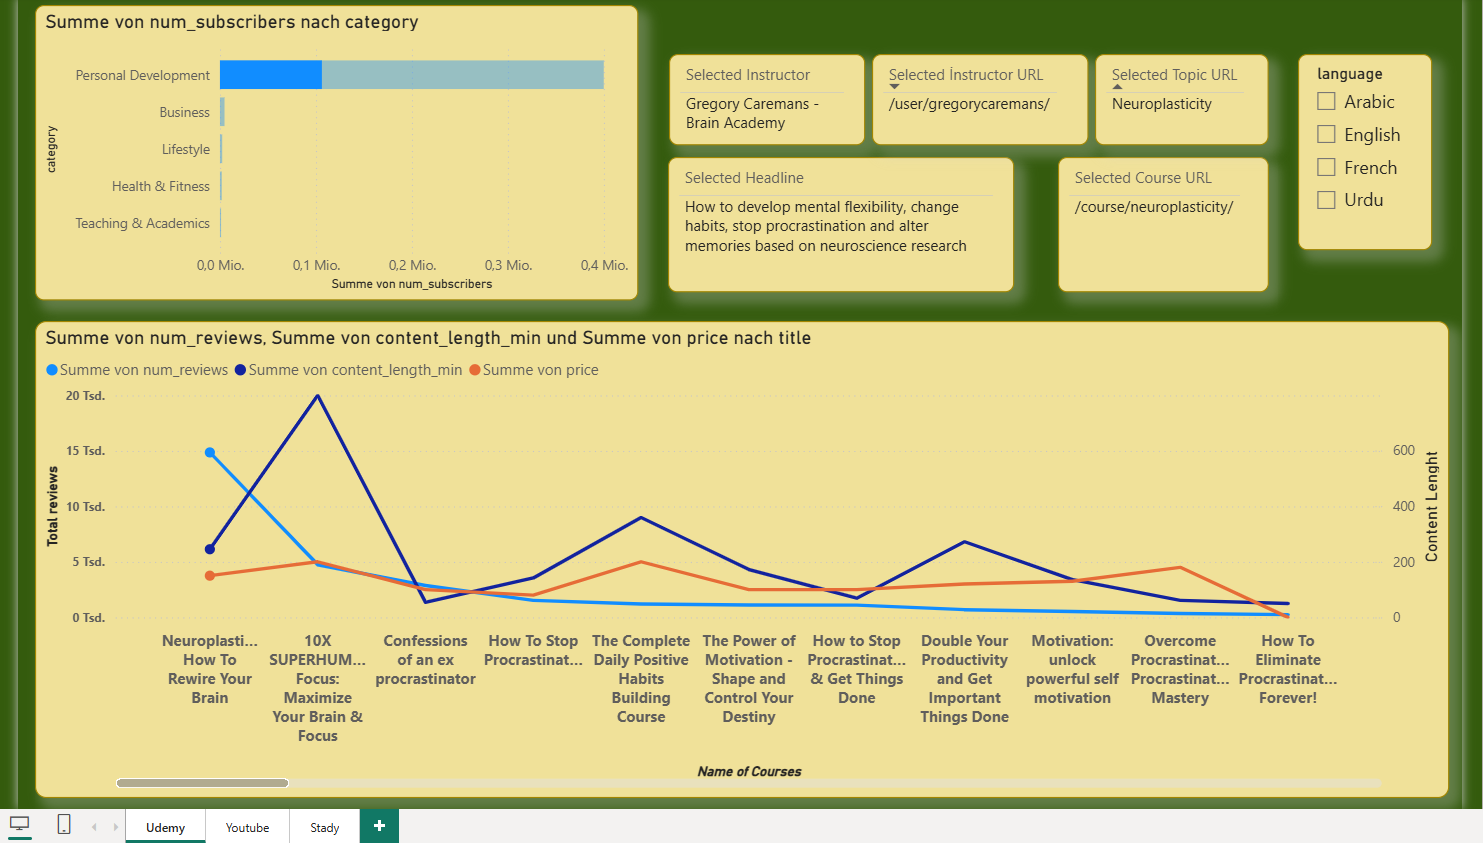

Layout of this report page (visuals, bound fields, positions):
{"tool":"powerbi","page":{"name":"Udemy","canvas":[1280,720],"ordinal":0},"visuals":[{"type":"barChart","fields":{"Y":["Sum(udemy_filtered_1.num_subscribers)"],"Category":["udemy_filtered_1.category"]},"box":[15.4,6.7,535.4,261.9],"z":0},{"type":"slicer","fields":{"Values":["udemy_filtered_1.language"]},"box":[1135.1,50.9,119,173.7],"z":1000},{"type":"lineChart","fields":{"Category":["udemy_filtered_1.title"],"Y":["Sum(udemy_filtered_1.num_reviews)"],"Y2":["Sum(udemy_filtered_1.content_length_min)","Sum(udemy_filtered_1.price)"]},"box":[15.4,286.9,1254.1,423.1],"z":2000},{"type":"tableEx","fields":{"Values":["Measure.Selected Instructor"]},"box":[577.1,50.6,173.6,80.9],"z":3000},{"type":"tableEx","fields":{"Values":["Maesuers.Selected Headline"]},"box":[576.7,142,307,119.9],"z":4000},{"type":"tableEx","fields":{"Values":["Measure.Selected İnc URL"]},"box":[757.1,50.6,191.8,80.9],"z":5000},{"type":"tableEx","fields":{"Values":["Measure.Selected Course URL"]},"box":[922.1,142,187.1,119.9],"z":6000},{"type":"tableEx","fields":{"Values":["Measure.Selected Topic URL"]},"box":[955.3,50.6,153.6,80.9],"z":7000}]}

Visuals, with their boxes on the page's 1280x720 design canvas (x1, y1, x2, y2). These are canvas units, not pixel positions in the 1483x843 screenshot, which may show the page scaled, cropped or inside an application window:
barChart - Sum(udemy_filtered_1.num_subscribers) x udemy_filtered_1.category: locate(15, 7, 551, 269)
slicer - udemy_filtered_1.language: locate(1135, 51, 1254, 225)
lineChart - udemy_filtered_1.title x Sum(udemy_filtered_1.num_reviews): locate(15, 287, 1270, 710)
tableEx - Measure.Selected Instructor: locate(577, 51, 751, 132)
tableEx - Maesuers.Selected Headline: locate(577, 142, 884, 262)
tableEx - Measure.Selected İnc URL: locate(757, 51, 949, 132)
tableEx - Measure.Selected Course URL: locate(922, 142, 1109, 262)
tableEx - Measure.Selected Topic URL: locate(955, 51, 1109, 132)
